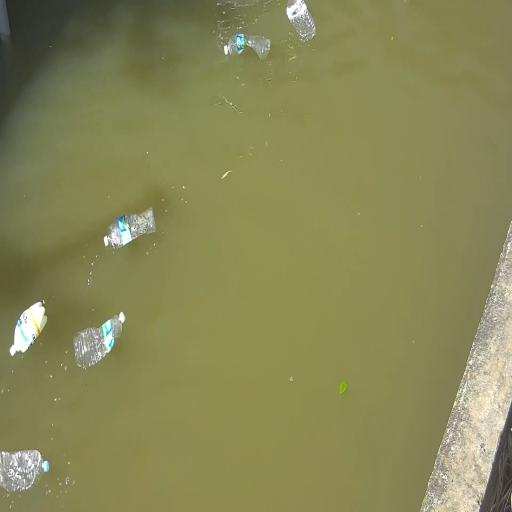plastic: (74, 311, 125, 369), (0, 450, 49, 492), (104, 208, 155, 248), (10, 302, 47, 355), (224, 34, 270, 59)
